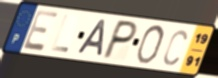A: (75, 18, 108, 58)
C: (162, 27, 188, 67)
E: (21, 8, 61, 53)
L: (49, 13, 71, 54)
O: (134, 24, 166, 66)
P: (99, 18, 141, 61)
